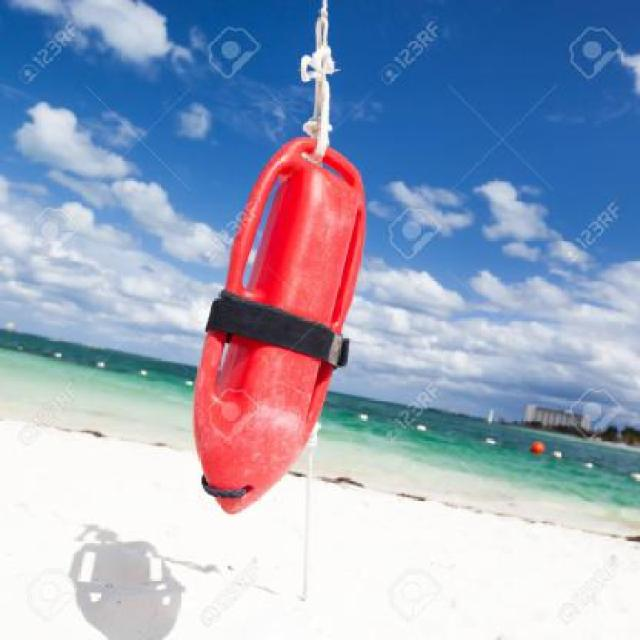a: (186, 1, 384, 523)
